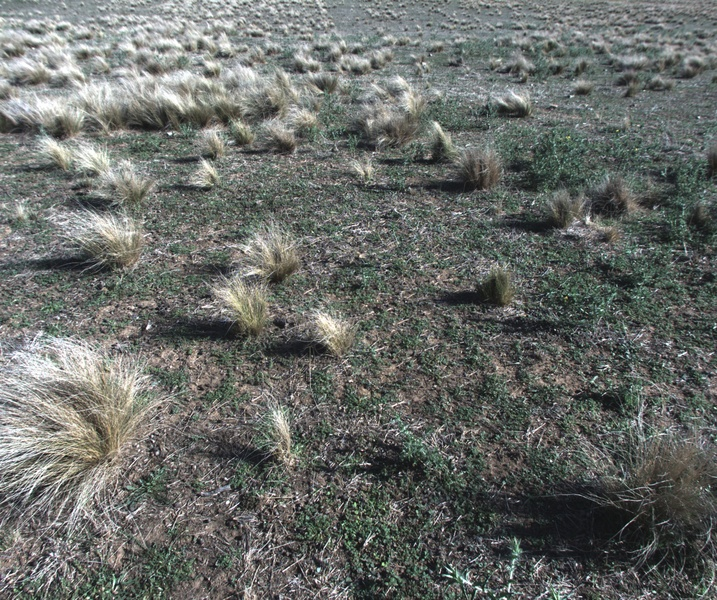st: (1, 344, 154, 498), (568, 421, 717, 563), (63, 211, 161, 274), (254, 391, 312, 480), (209, 280, 267, 341), (362, 80, 420, 140), (239, 227, 297, 283), (70, 147, 122, 207), (598, 170, 647, 218), (309, 310, 355, 356), (84, 87, 127, 135), (248, 73, 291, 120), (464, 141, 509, 185), (538, 186, 574, 229), (480, 269, 515, 311), (120, 166, 156, 205), (179, 90, 213, 131), (187, 156, 220, 195), (492, 88, 531, 120), (265, 120, 298, 157), (38, 36, 70, 74), (428, 124, 461, 160), (352, 153, 382, 192), (32, 140, 68, 172), (58, 106, 90, 140), (343, 53, 384, 78), (287, 105, 321, 135), (313, 70, 344, 102), (41, 66, 80, 91), (494, 56, 536, 79), (190, 131, 223, 159), (13, 56, 43, 86), (228, 121, 256, 151), (370, 45, 400, 73), (591, 222, 622, 249), (329, 41, 356, 70), (191, 27, 216, 53), (288, 54, 315, 78), (564, 80, 602, 96), (199, 61, 223, 85), (685, 53, 712, 73), (212, 38, 233, 62), (75, 42, 94, 64), (648, 76, 670, 94), (545, 56, 562, 75), (572, 56, 585, 77)
